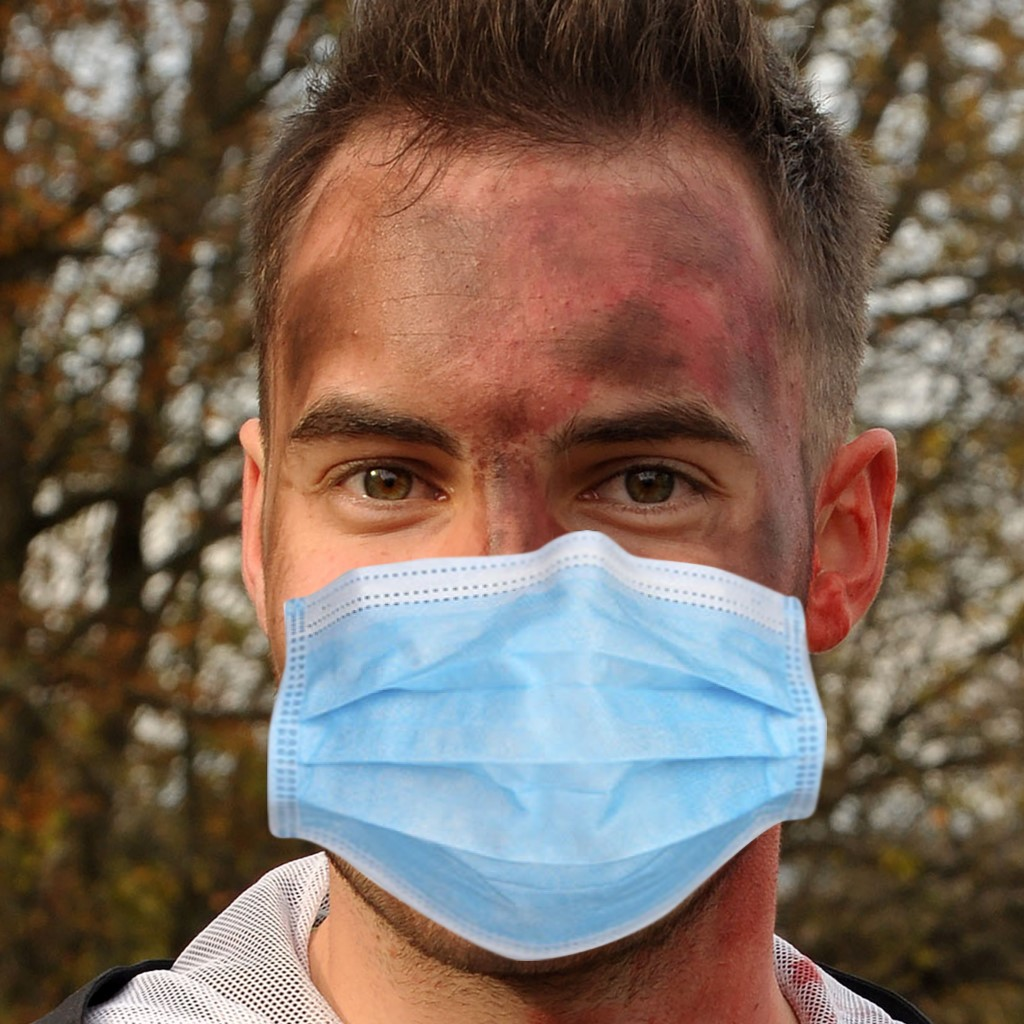con_mascara: (256, 127, 832, 964)
